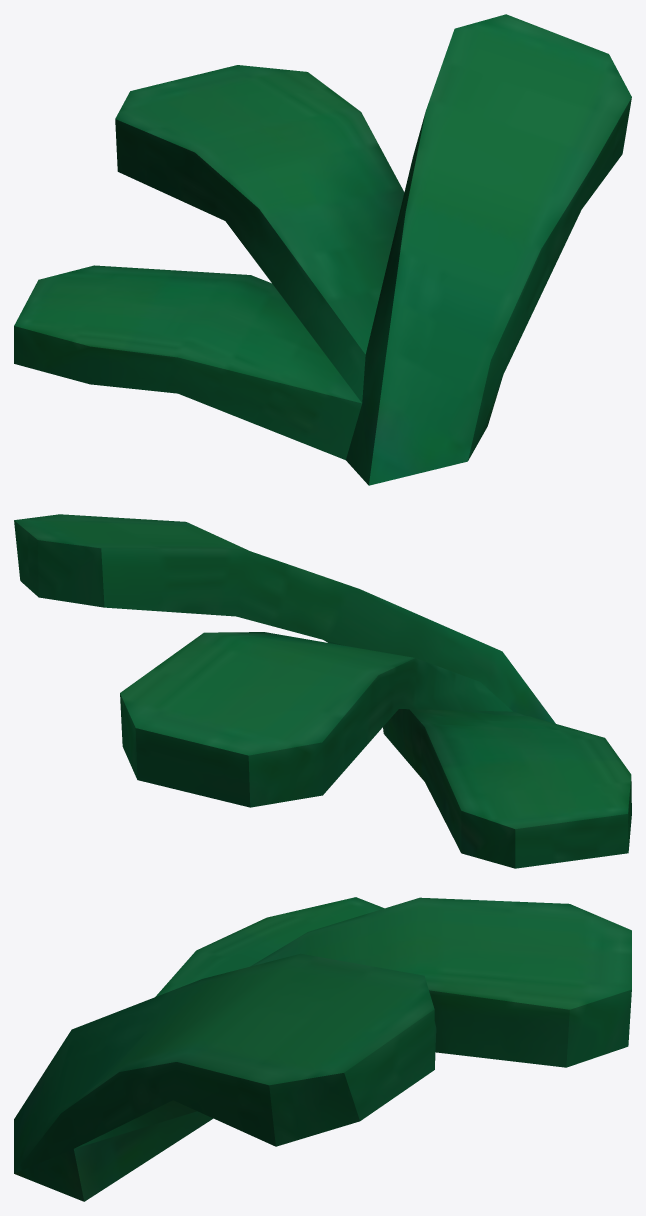
Rendered from FOL_Grass_06.obj.
The picture shows the model from 3 angles, top to bottom: view 1: azimuth 30°, elevation 25°; view 2: azimuth 150°, elevation 25°; view 3: azimuth 270°, elevation 25°; orthographic projection. The views are drawn at different scales.
Parts seen in each view (by area): view 1: FOL_Grass_06; view 2: FOL_Grass_06; view 3: FOL_Grass_06.
Boxes of the visible parts, bbox=[...] form: FOL_Grass_06: bbox=[14, 14, 631, 485]; FOL_Grass_06: bbox=[14, 514, 631, 868]; FOL_Grass_06: bbox=[14, 897, 631, 1201].
Size of the model in its own units: 0.5964 by 0.2495 by 0.4801.
Materials: 1 (1 with a texture image).
